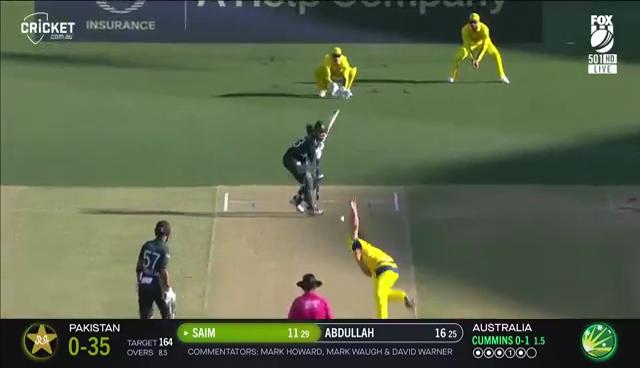ball: (334, 212, 351, 227)
